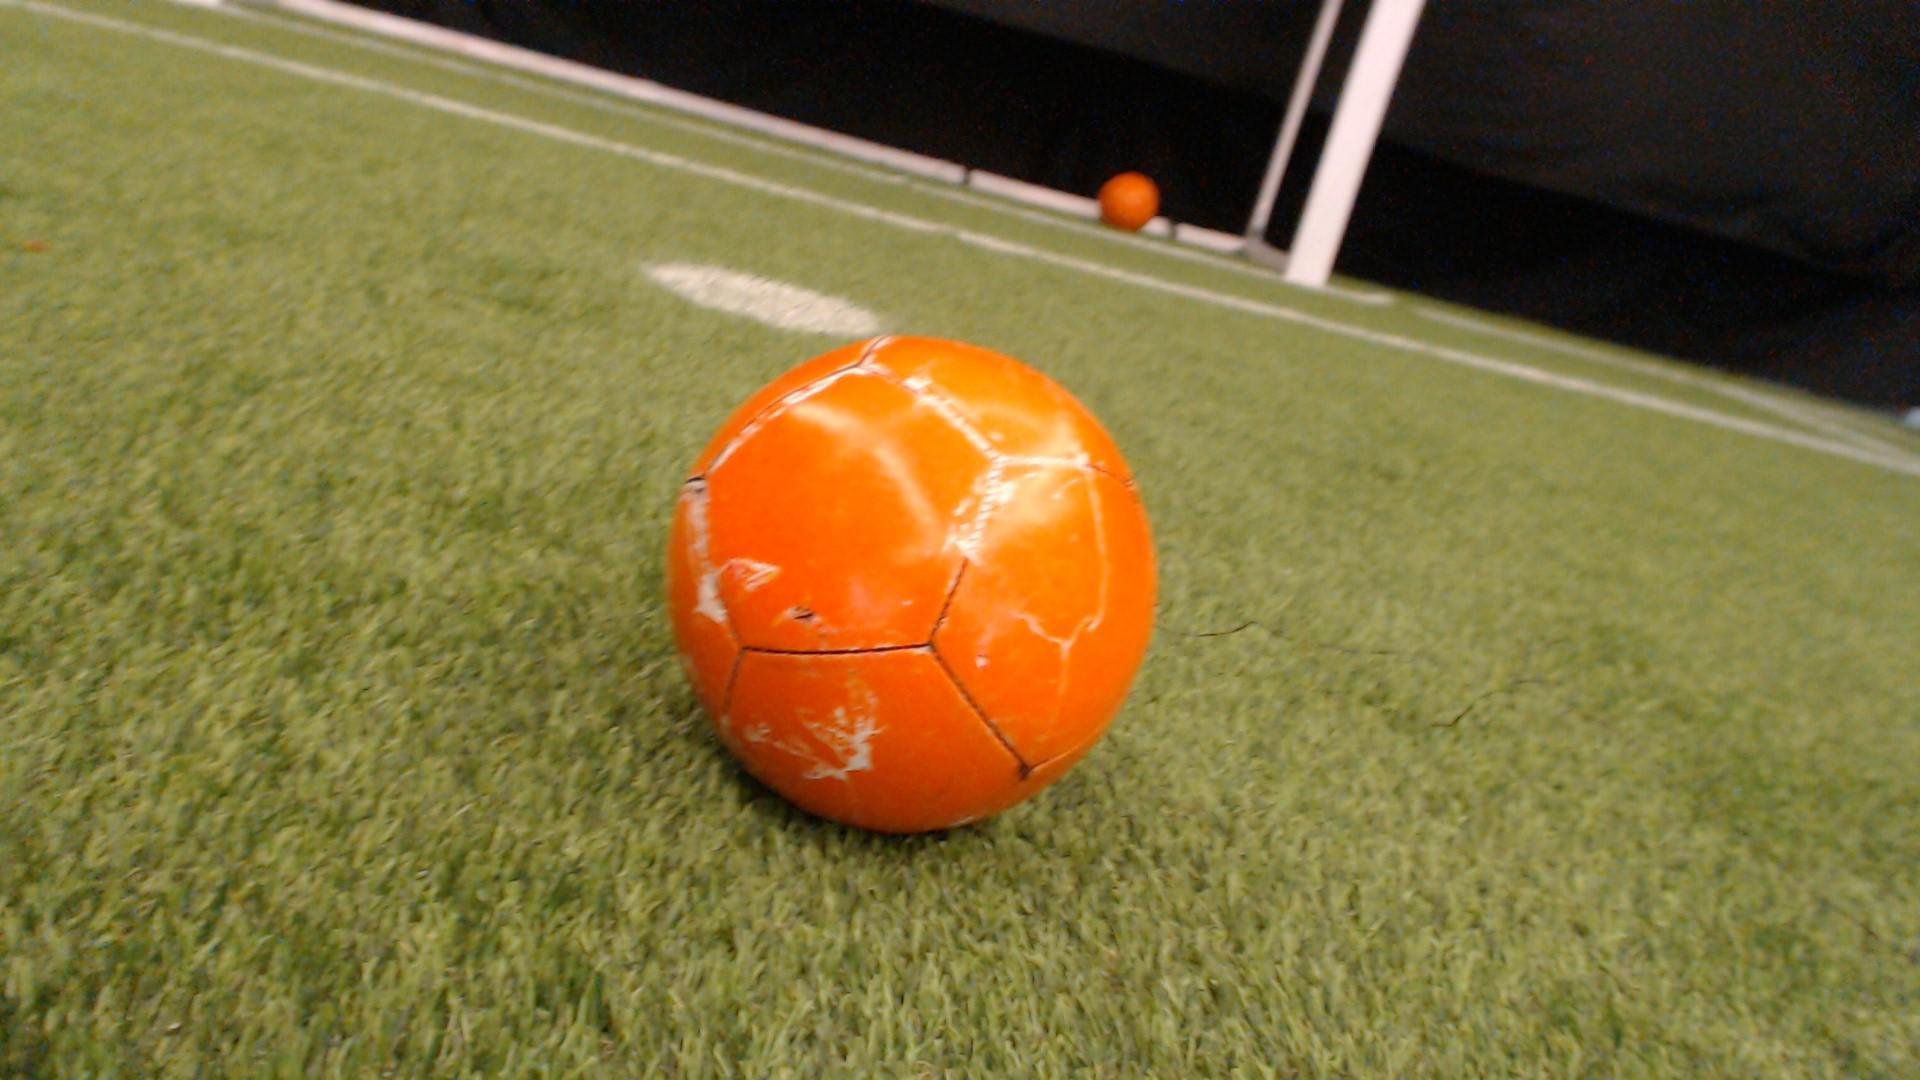bola: (641, 315, 1171, 886), (1085, 136, 1185, 247)
